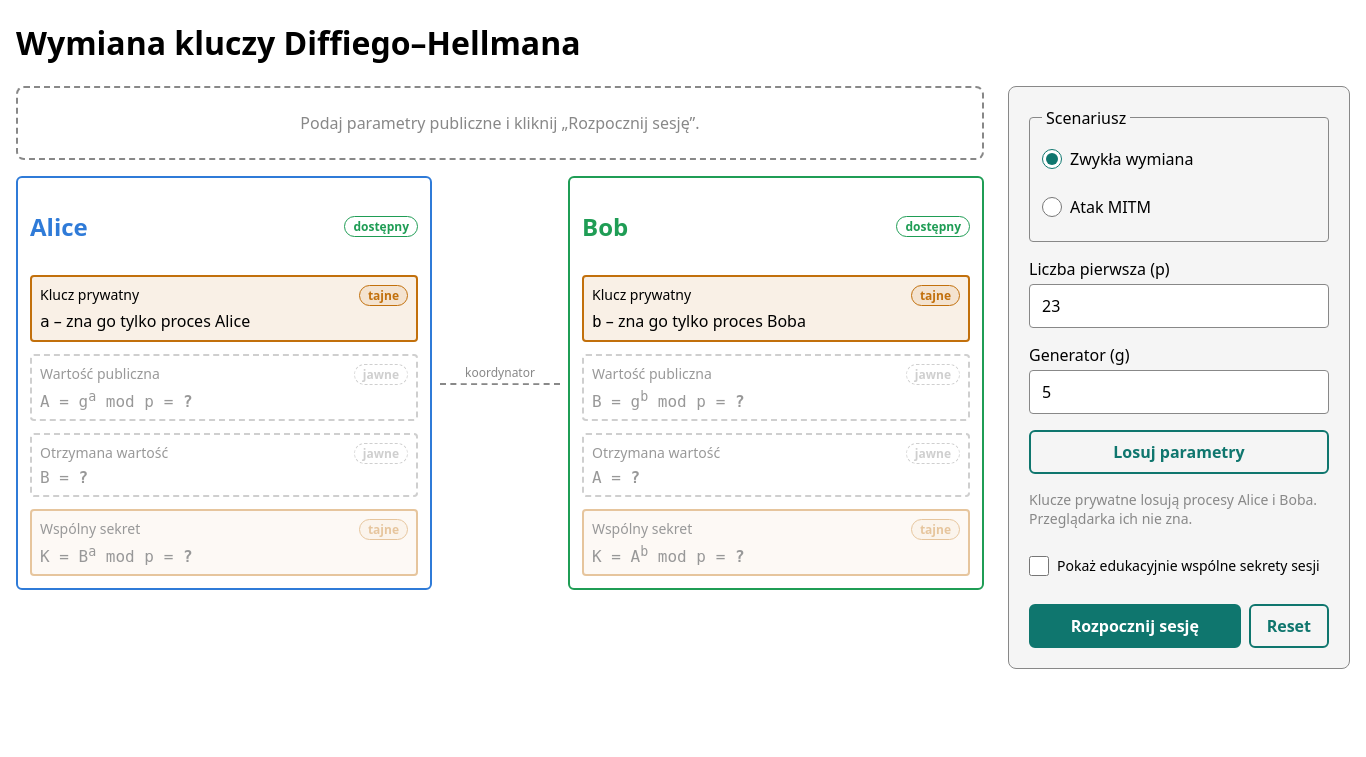
Test: formularz DH › niedostępna Mallory blokuje tylko scenariusz MITM, z podpowiedzią przy przycisku
The width and height of the screenshot is (1366, 757).
Expected: the text "dostępny" is shown 2 times, [344,216,418,237]; [896,216,970,237]
Expected: the button "Rozpocznij sesję" is enabled, [1029,604,1241,648]
Click the radio button labelled "Atak MITM": (1052, 207) [1042,197,1062,217]
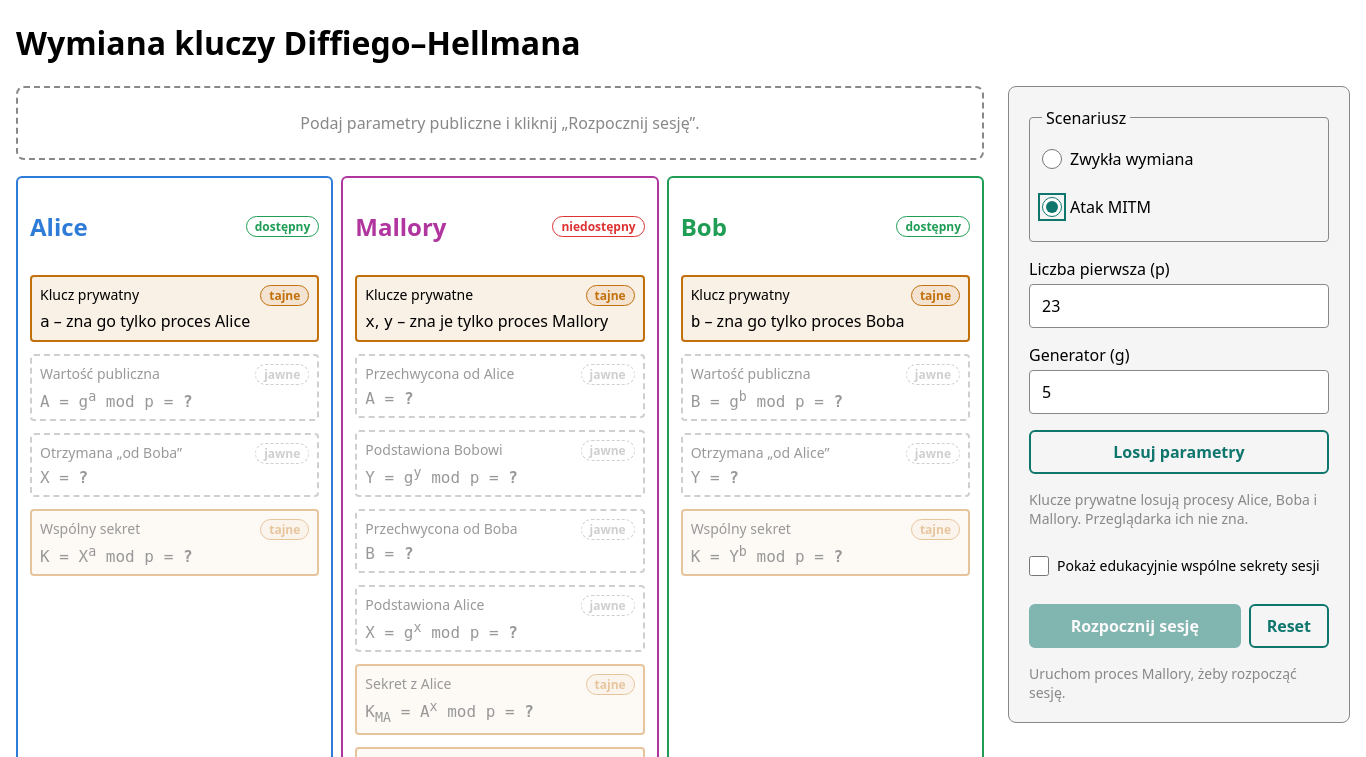
Now the button "Rozpocznij sesję" is disabled, box [1029,604,1241,648]
